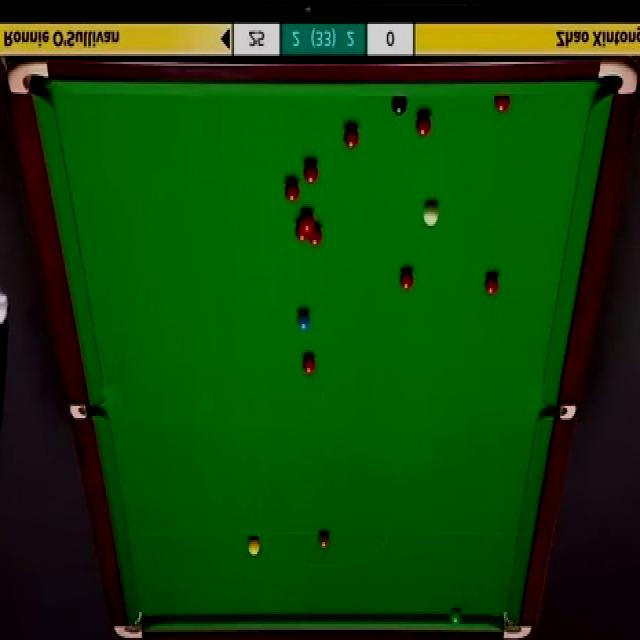black-ball: (392, 95, 408, 117)
blue-ball: (296, 311, 312, 332)
brown-ball: (318, 532, 330, 552)
green-ball: (450, 610, 463, 629)
red-ball: (303, 160, 320, 189), (398, 267, 415, 294), (344, 123, 360, 151), (415, 110, 432, 136), (284, 180, 300, 206), (484, 271, 498, 296), (492, 97, 511, 115), (294, 218, 308, 242), (309, 222, 322, 246), (300, 210, 316, 229), (303, 355, 316, 376)
white-ball: (422, 201, 438, 228)
yellow-ball: (247, 538, 259, 554)
